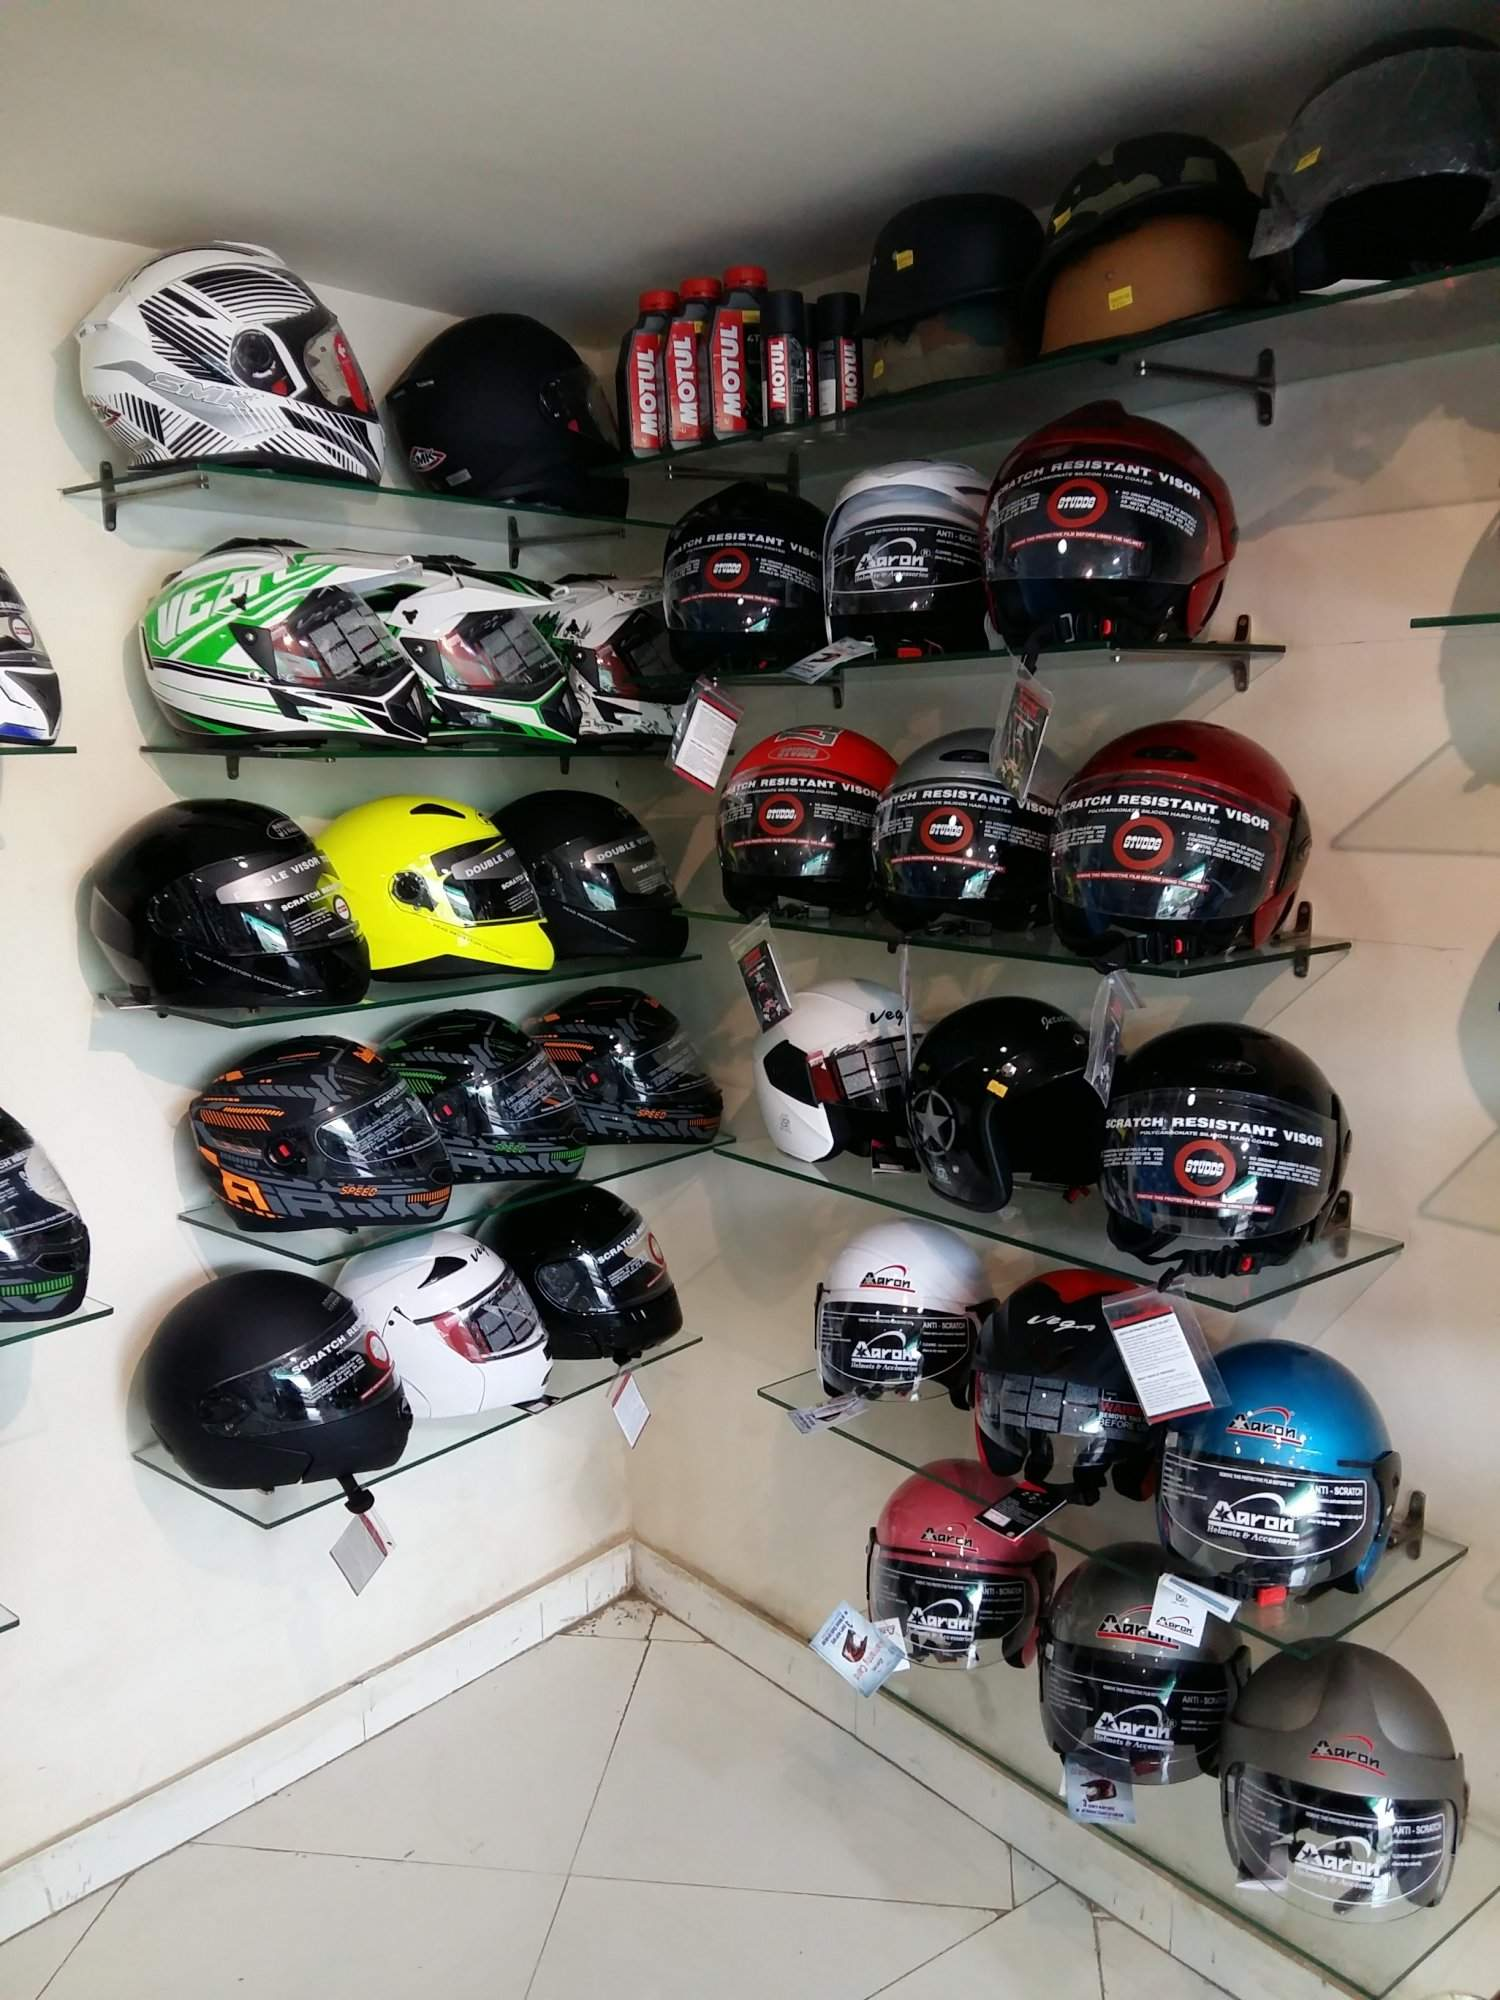with_helmet: (63, 225, 383, 494), (1221, 1628, 1486, 1932), (1098, 1009, 1371, 1276), (1158, 1335, 1413, 1609), (72, 792, 375, 1016), (131, 517, 427, 732), (978, 398, 1240, 643), (140, 1268, 421, 1494), (381, 276, 638, 513), (1064, 723, 1312, 956), (1030, 1539, 1242, 1805), (180, 1033, 451, 1233), (904, 992, 1112, 1231), (332, 784, 558, 987), (797, 1208, 994, 1427), (860, 1457, 1041, 1676), (886, 728, 1065, 948), (343, 1231, 556, 1416), (711, 729, 893, 943), (495, 1184, 693, 1369), (818, 447, 988, 657), (490, 783, 690, 957), (744, 973, 915, 1175), (654, 490, 826, 680), (418, 543, 578, 732), (2, 1098, 99, 1329)
